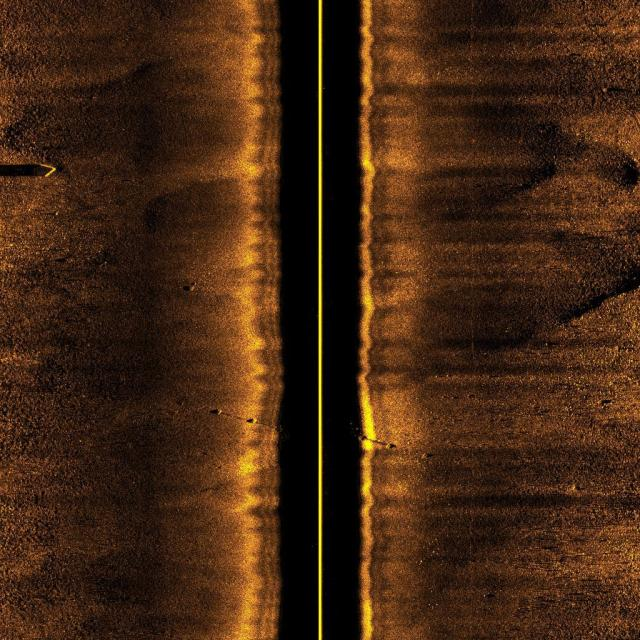mine: (364, 436, 387, 447)
other: (3, 159, 68, 181)
